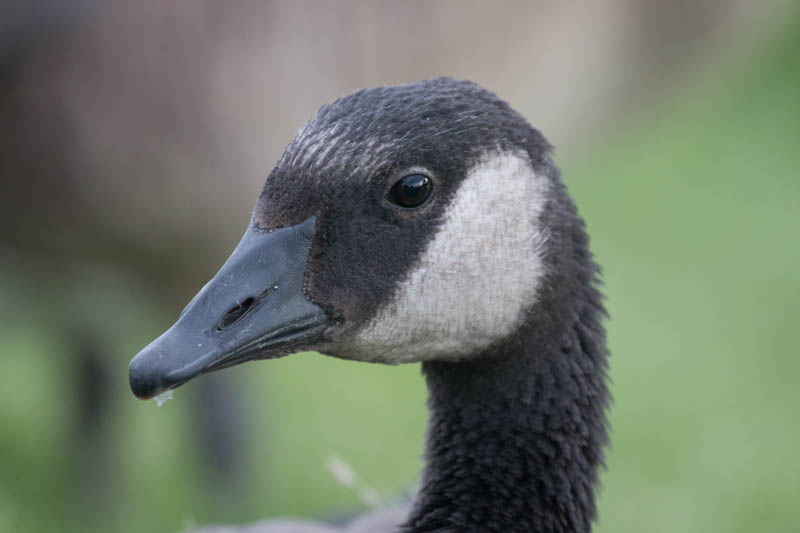goose-head: (128, 76, 603, 400)
